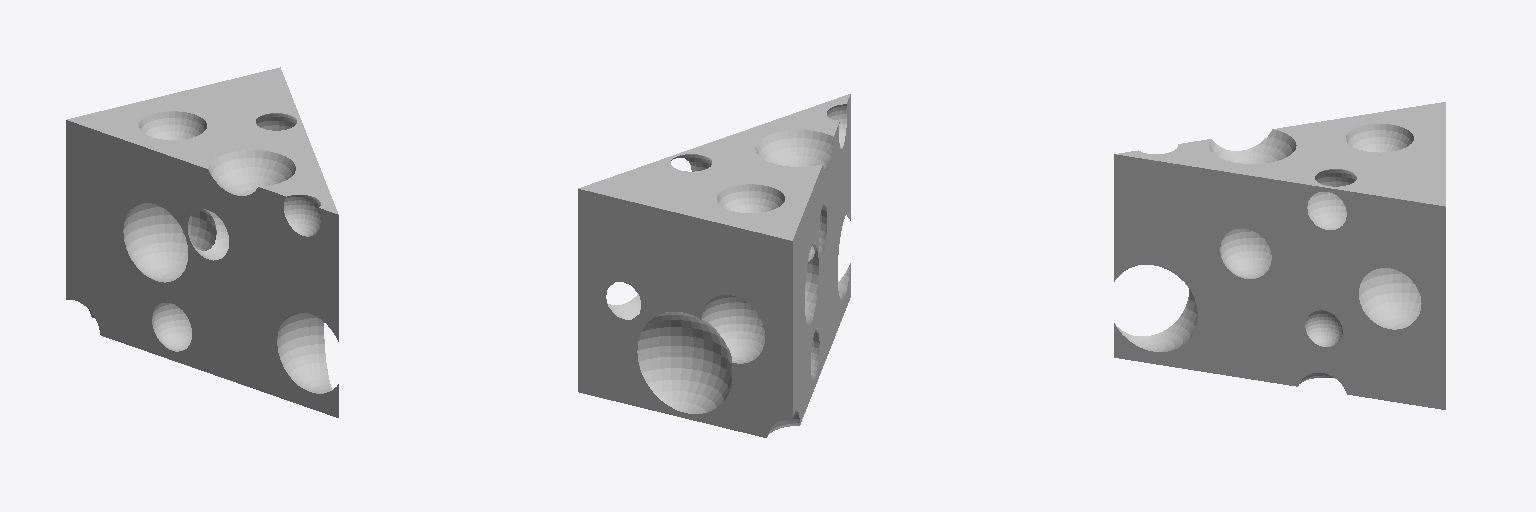
File: cheese.obj
The picture shows the model from 3 angles: view 1: azimuth 30°, elevation 25°; view 2: azimuth 150°, elevation 25°; view 3: azimuth 270°, elevation 25°; orthographic projection.
Visible parts, largest first — view 1: Cube; view 2: Cube; view 3: Cube.
Part boxes in pixels (x1,y1,x2,y2): Cube: (66, 67, 338, 417); Cube: (578, 94, 850, 437); Cube: (1114, 102, 1445, 409).
Bounding box in the file's own units: 1.5 × 1.36 × 2.